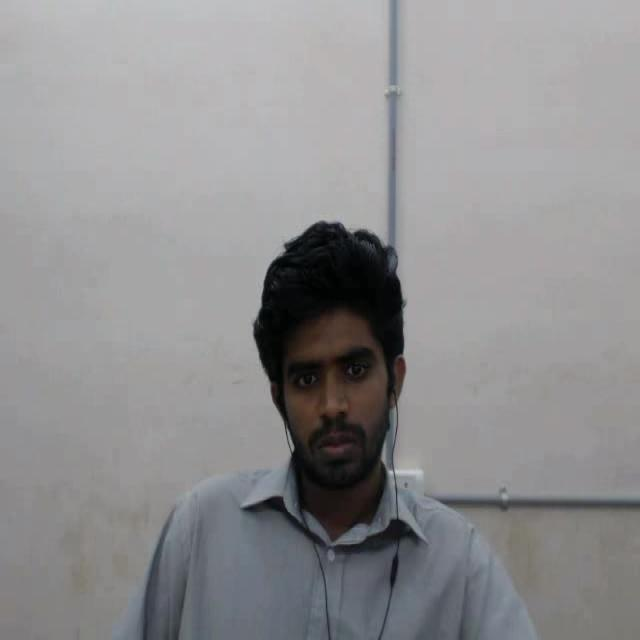Engaged: (250, 184, 431, 519)
